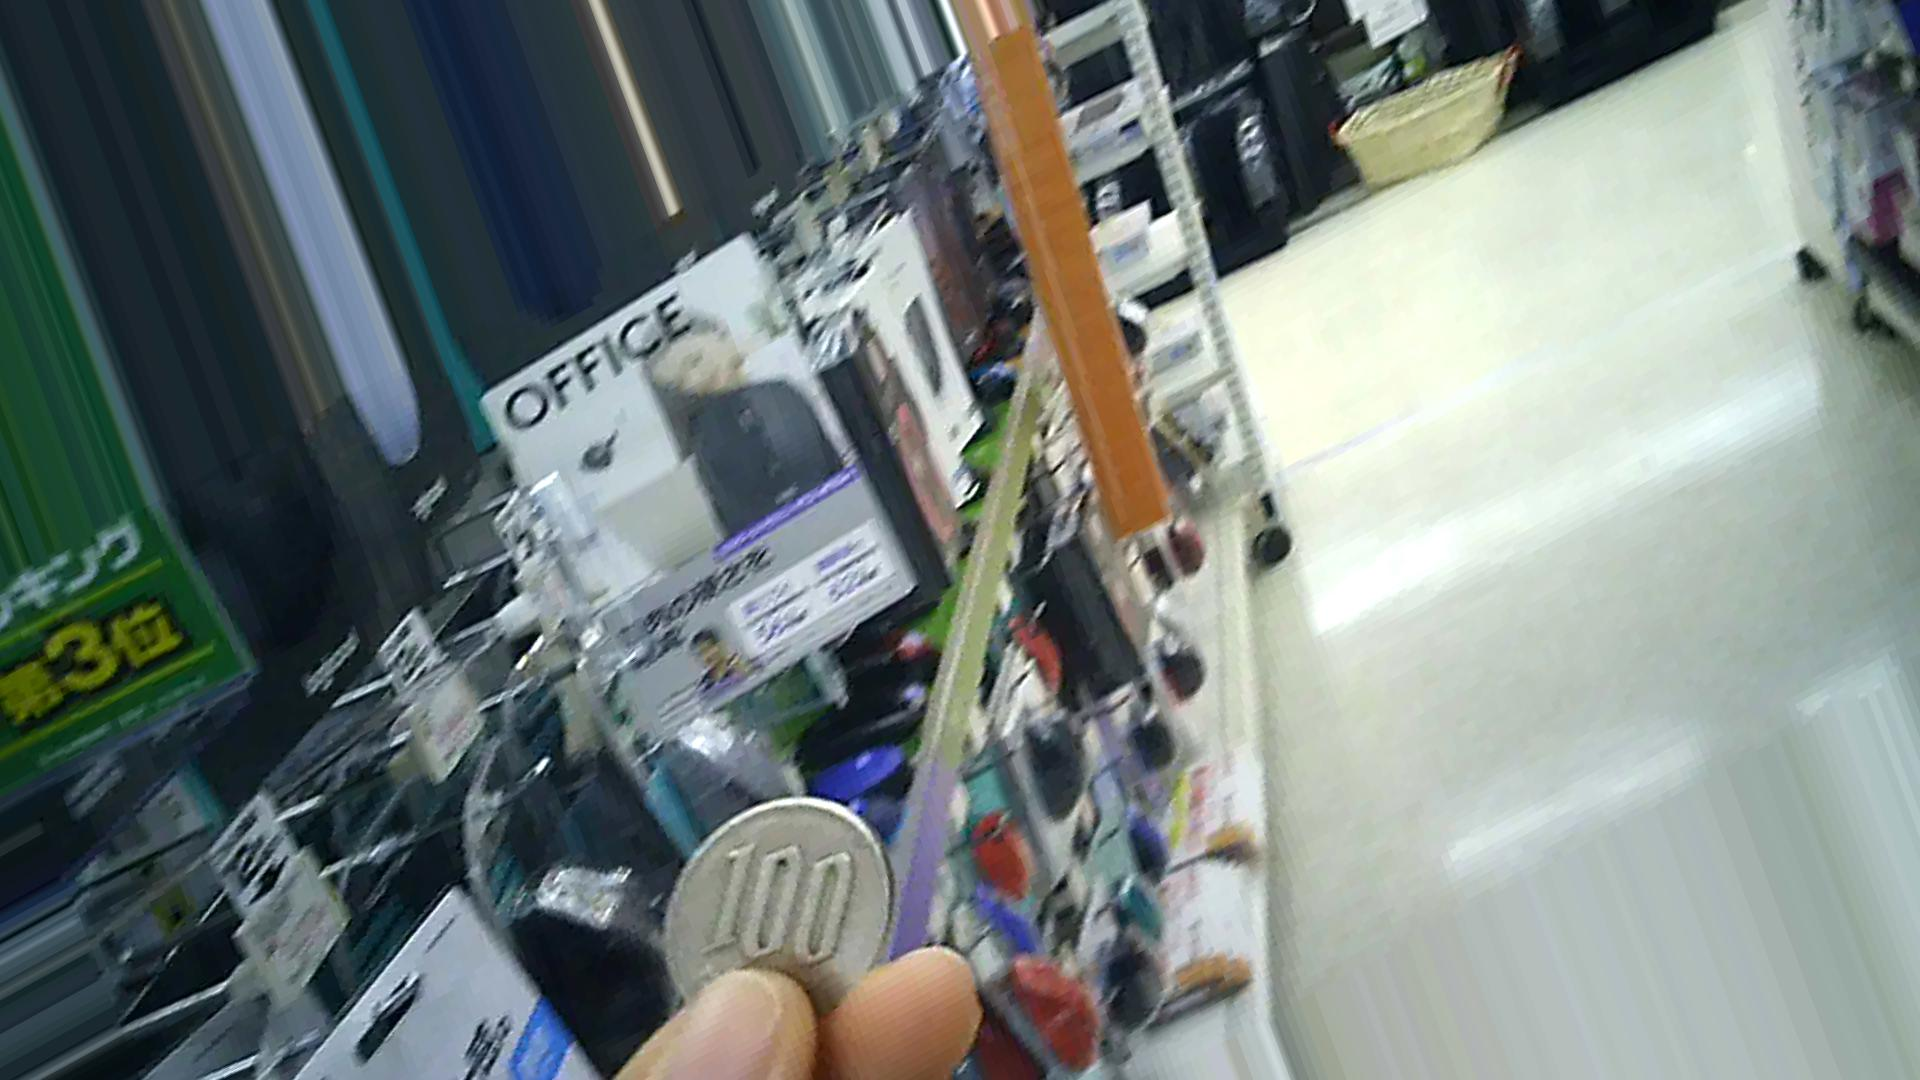100 Yen: (647, 804, 887, 1015)
